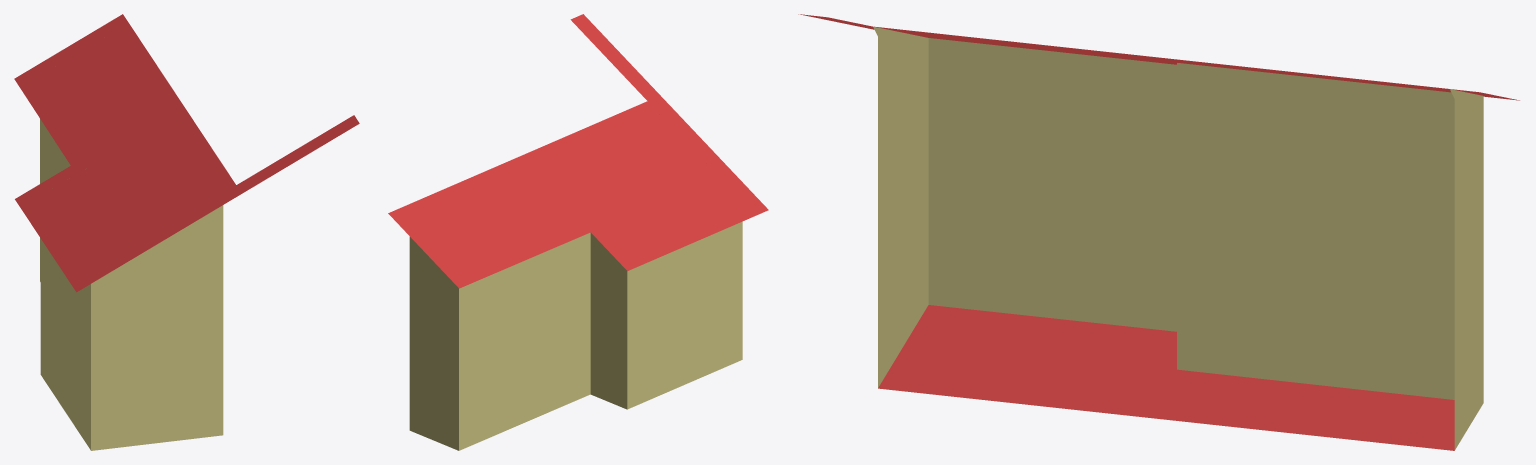
3 renders of one model, left to right at view 1: azimuth 30°, elevation 25°; view 2: azimuth 150°, elevation 25°; view 3: azimuth 270°, elevation 25°, orthographic. The views are drawn at different scales.
Bounding box in the file's own units: 10.32 × 17.29 × 11.96.
